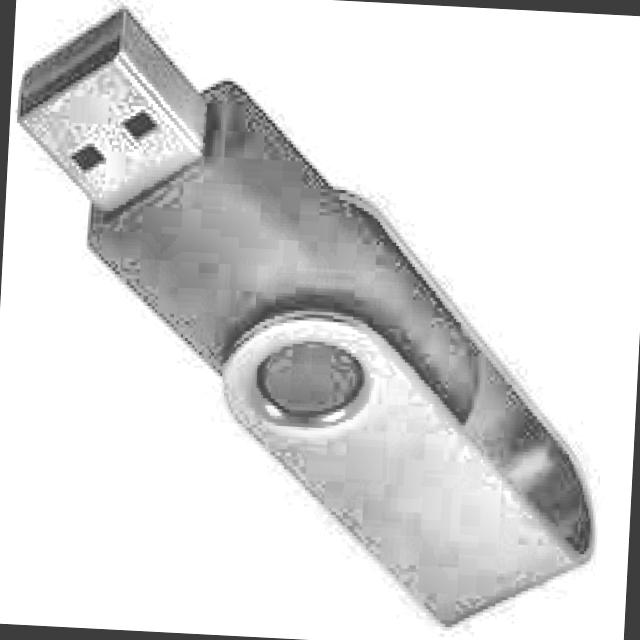Mug: (11, 0, 611, 640)
